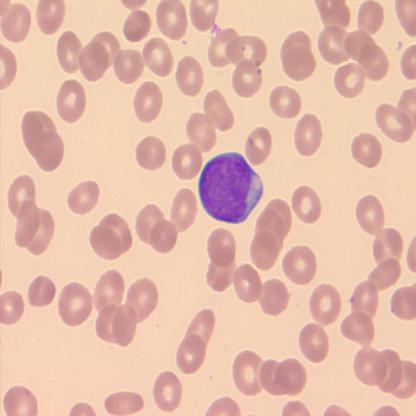Blast: (197, 148, 264, 226)
